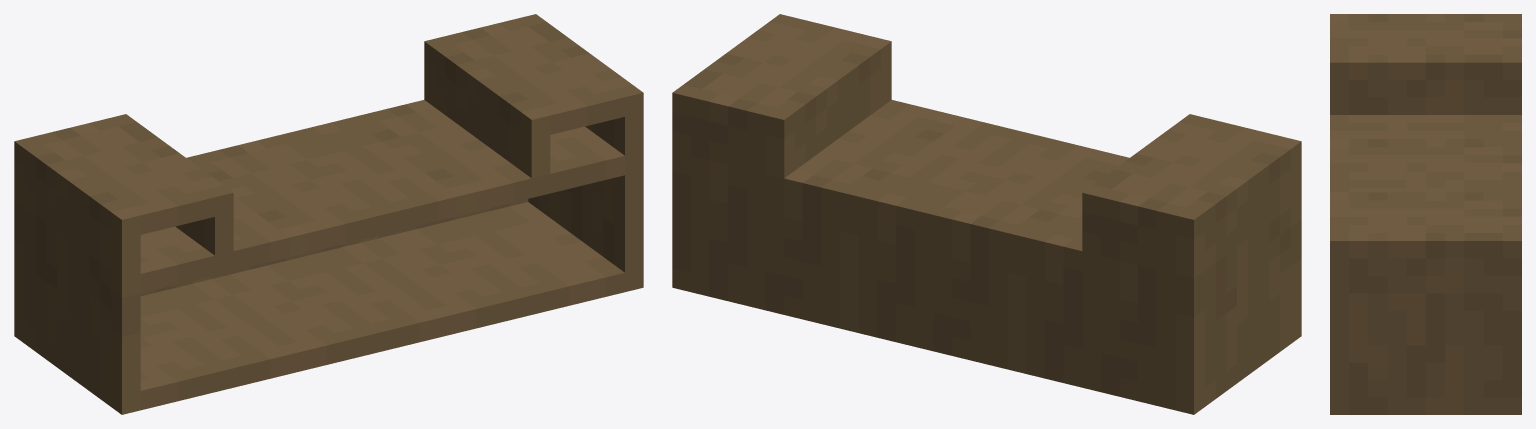
Rendered from Decor-62.obj.
The picture shows the model from 3 angles, left to right: view 1: azimuth 30°, elevation 25°; view 2: azimuth 150°, elevation 25°; view 3: azimuth 270°, elevation 25°; orthographic projection. The views are drawn at different scales.
Size of the model in its own units: 2.8 by 1 by 1.
Materials: 1 (1 with a texture image).
